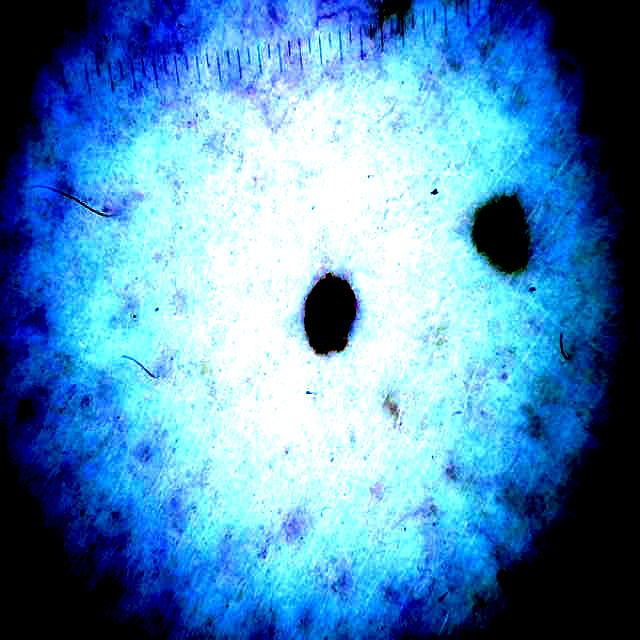MEL: (305, 274, 355, 353), (477, 199, 528, 270)
